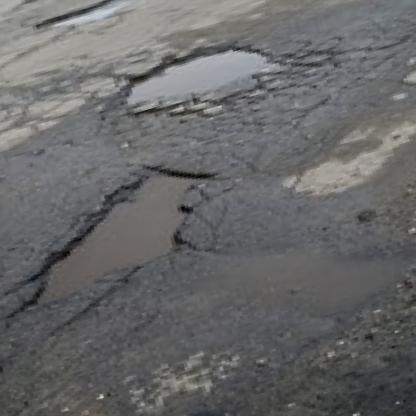pothole: (0, 150, 232, 312), (112, 32, 278, 118), (33, 0, 154, 38), (20, 0, 65, 5)
